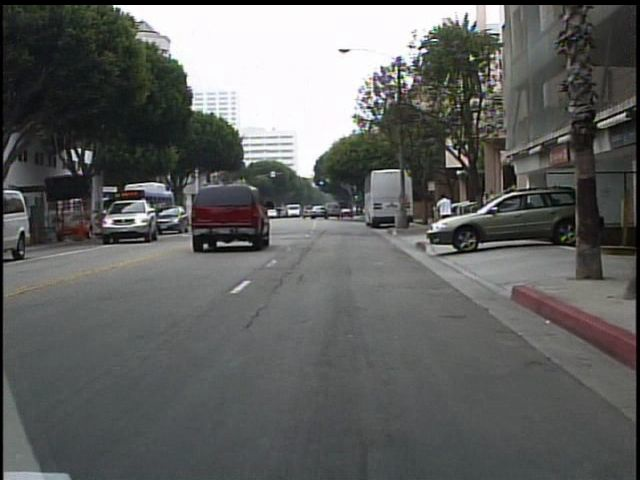person: (432, 190, 455, 239)
